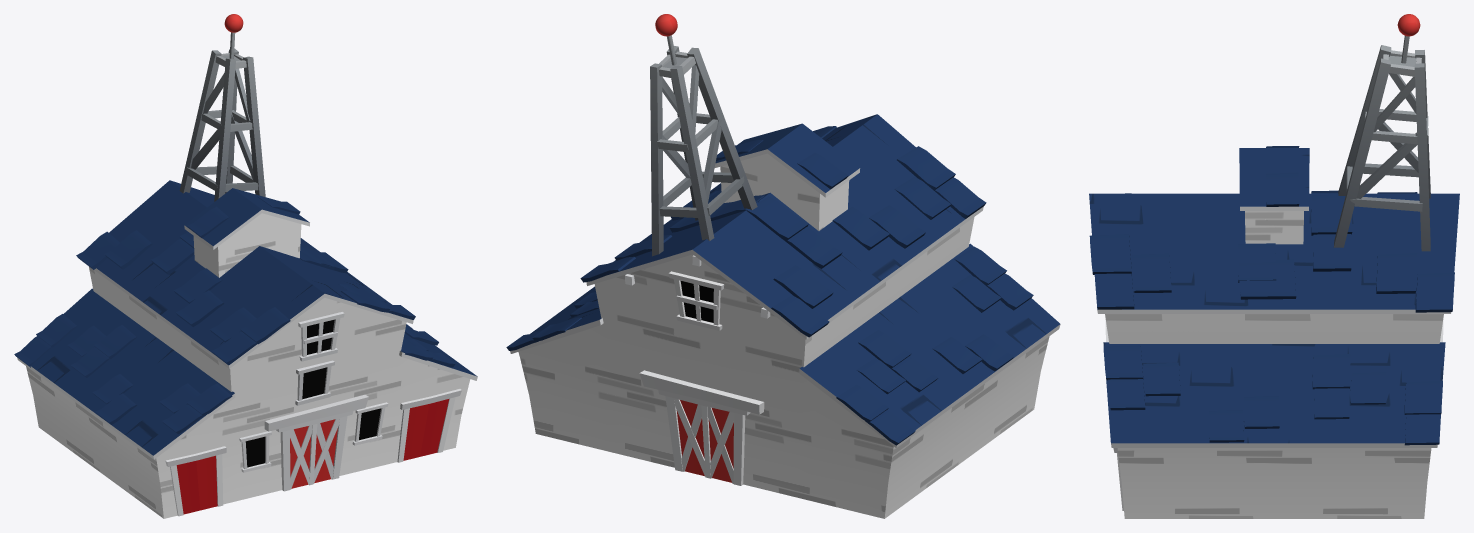
The model's file is SM_Barn.fbx.
3 views of the same model, side by side, from view 1: azimuth 30°, elevation 25°; view 2: azimuth 150°, elevation 25°; view 3: azimuth 270°, elevation 25° (orthographic). The views are drawn at different scales.
Visible parts, largest first — view 1: SM_Barn_2; view 2: SM_Barn_2; view 3: SM_Barn_2.
Boxes of the visible parts, x1,y1,x2,y2 form: SM_Barn_2: (14,14,477,518); SM_Barn_2: (506,14,1060,518); SM_Barn_2: (1089,14,1459,518).
Bounding box in the file's own units: 1513 × 1627 × 1231.
